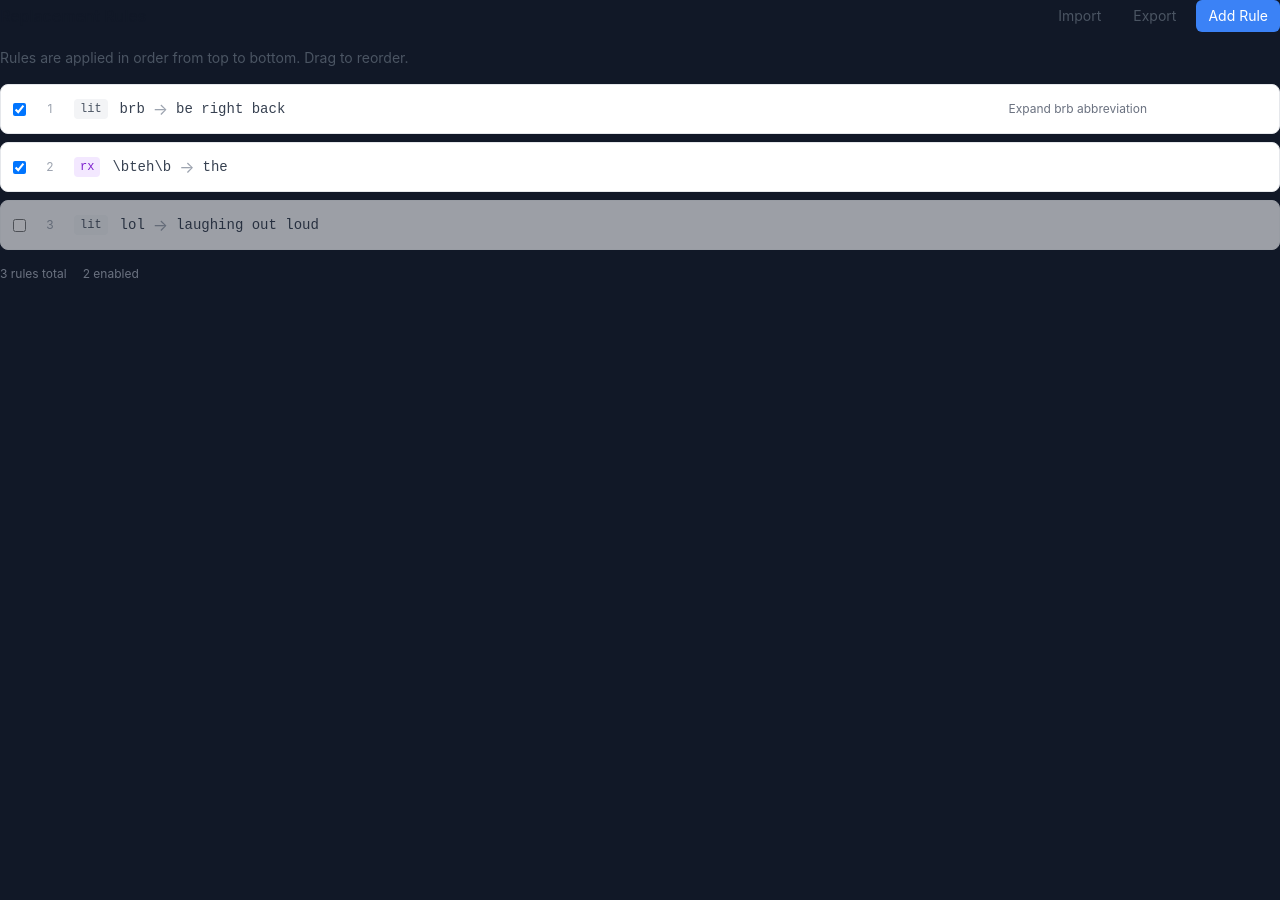
Test case: Adding/removing rules updates list reactively › pressing Escape closes replacement editor dialog
Step 1. Click the button "Add Rule" → point(1238, 16), box x1=1196 y1=0 x2=1279 y2=32
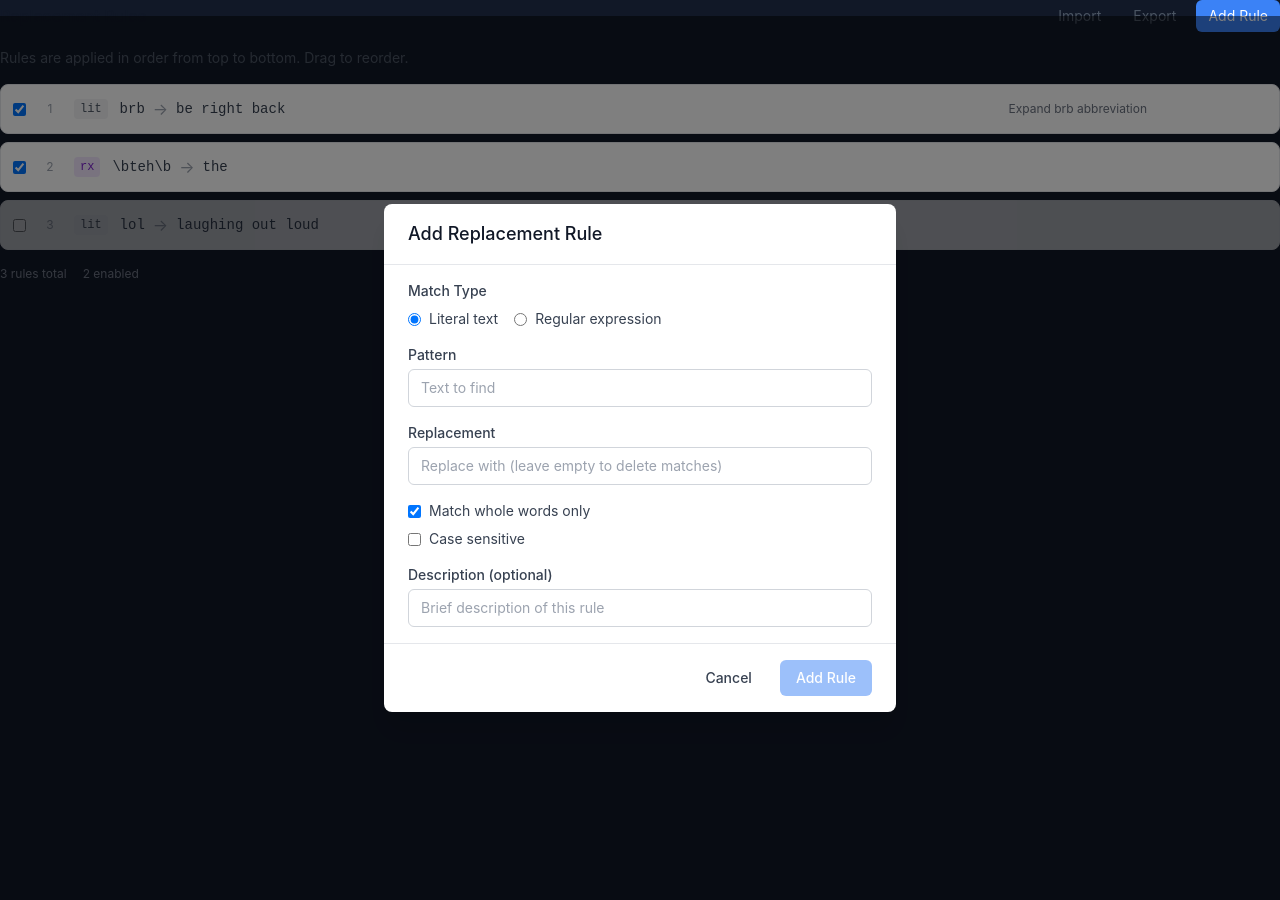
Expected: the dialog is shown, x1=384 y1=204 x2=896 y2=712
Step 2. Press Escape
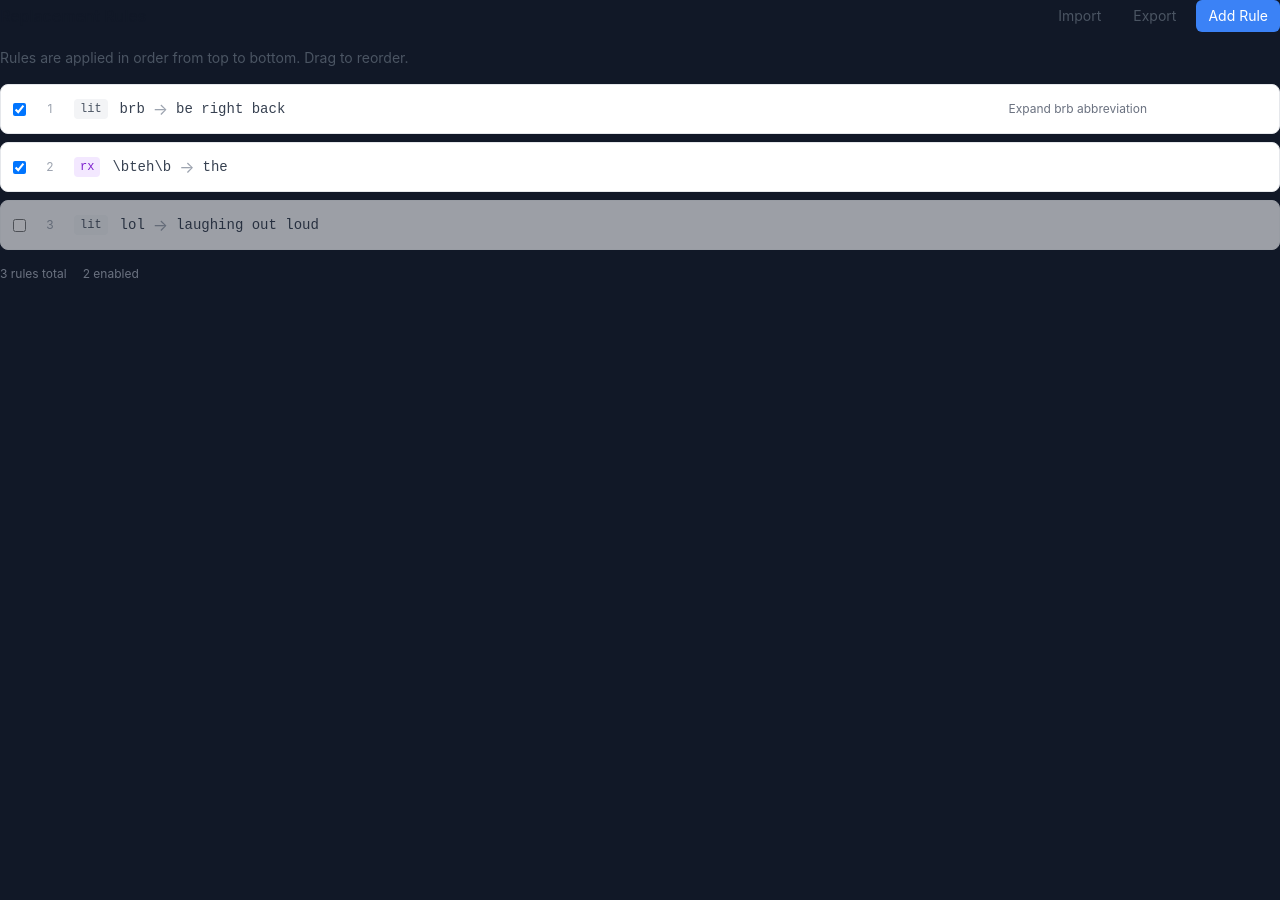
Expected: the dialog is gone
